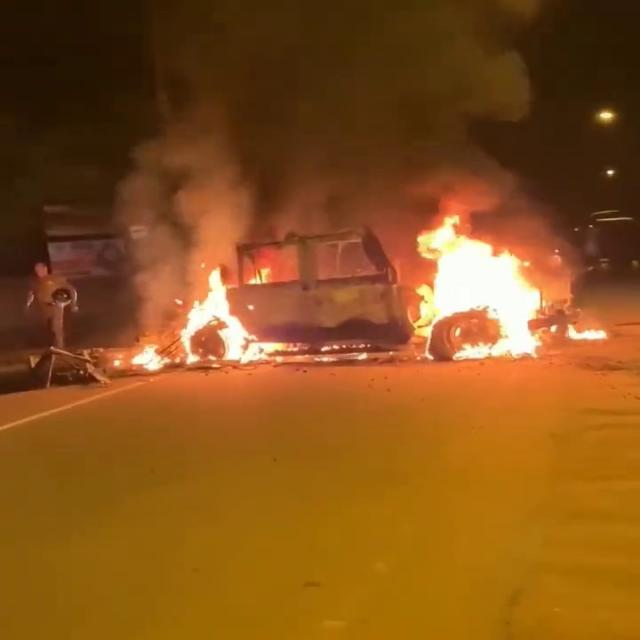Fire: (416, 215, 548, 358), (178, 269, 254, 361), (112, 343, 171, 374), (456, 348, 507, 364), (574, 329, 608, 341), (253, 271, 272, 284)
Smoke: (169, 33, 529, 229), (117, 145, 253, 345)
